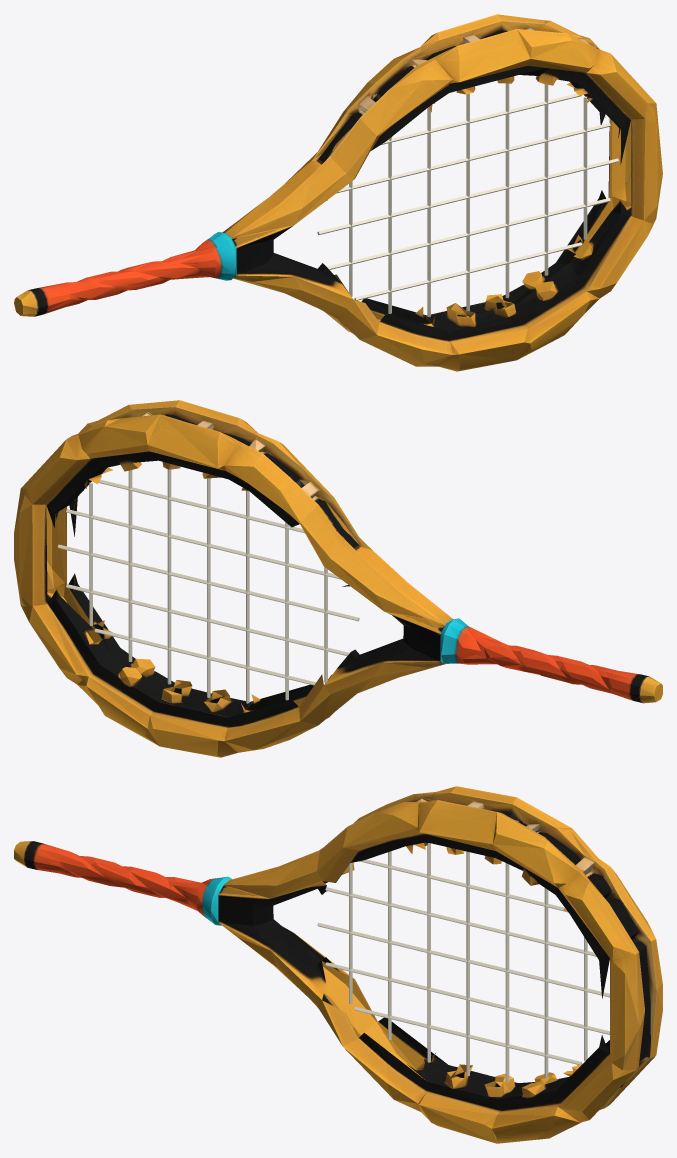
File: Huilesson.fbx
The picture shows the model from 3 angles, top to bottom: view 1: azimuth 30°, elevation 25°; view 2: azimuth 150°, elevation 25°; view 3: azimuth 330°, elevation 25°; orthographic projection.
Visible parts, largest first — view 1: WP_Huilesson_LOD0; view 2: WP_Huilesson_LOD0; view 3: WP_Huilesson_LOD0.
Part boxes in pixels (<box>): WP_Huilesson_LOD0: <box>14,14,662,371</box>; WP_Huilesson_LOD0: <box>14,400,662,757</box>; WP_Huilesson_LOD0: <box>14,786,662,1143</box>.
Bounding box in the file's own units: 0.76 × 0.3805 × 0.0841.
Materials: 2 (1 with a texture image).
